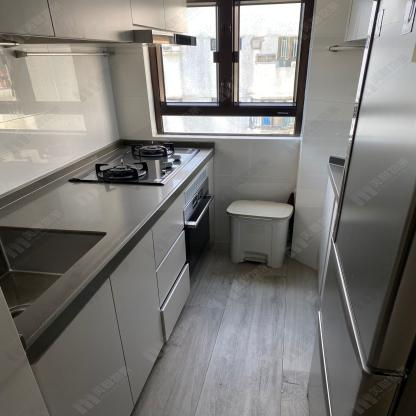Cupboard: (34, 195, 193, 414)
Exhaust Hood: (134, 29, 194, 45)
Fridge: (306, 0, 416, 414)
Oven: (184, 179, 214, 275)
Sink: (0, 227, 115, 319)
Stove: (69, 142, 199, 185)
